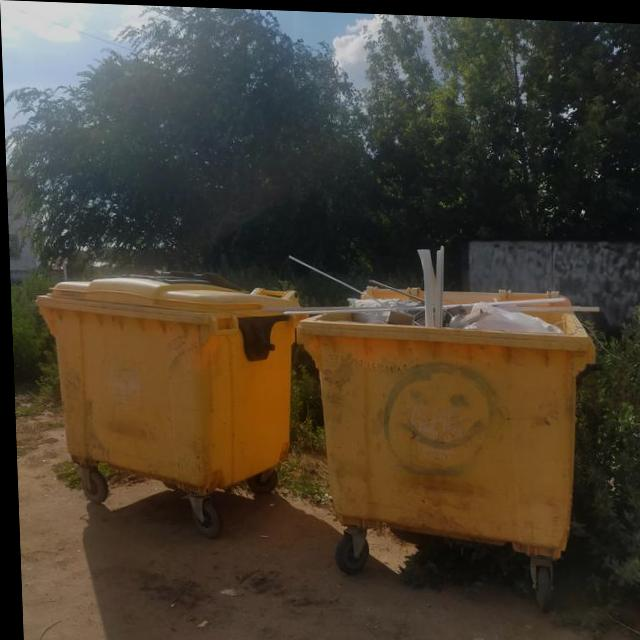Trash_Can_Closed: (35, 267, 309, 497)
Trash_Can_Full: (294, 278, 602, 556)
